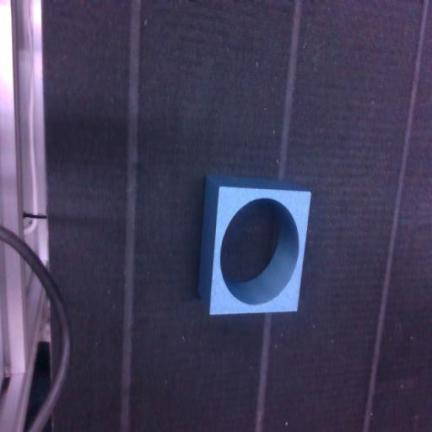hole: (200, 177, 310, 314)
